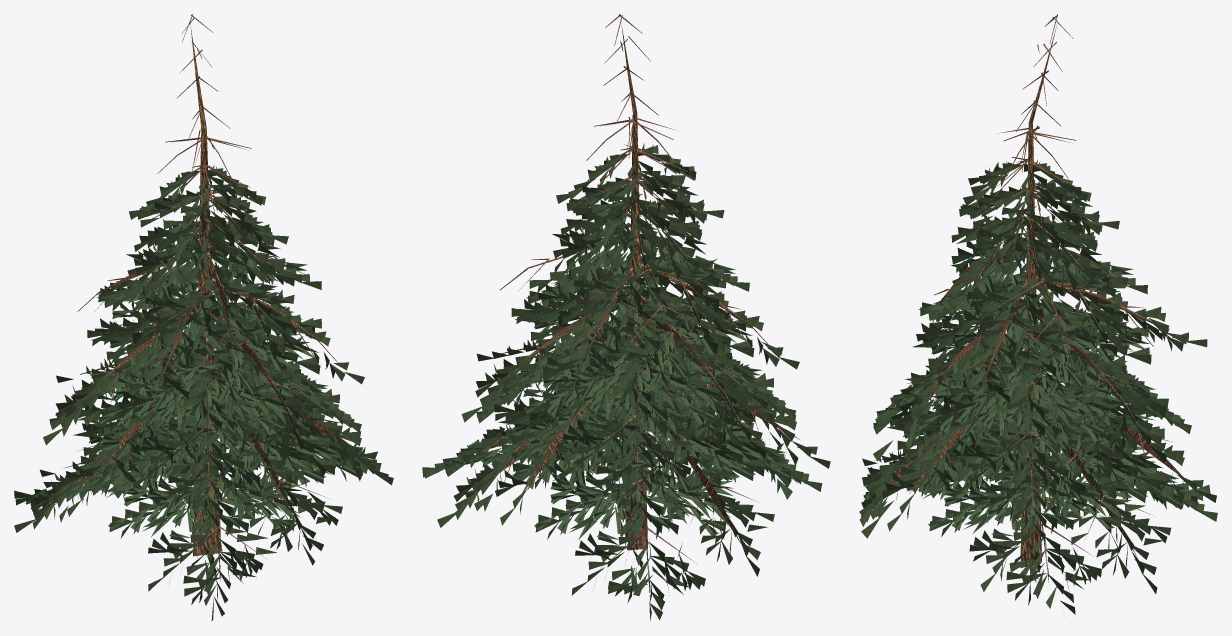
The model's file is pine_4.obj.
3 renders of one model, left to right at view 1: azimuth 30°, elevation 25°; view 2: azimuth 150°, elevation 25°; view 3: azimuth 270°, elevation 25°, orthographic. The views are drawn at different scales.
Parts seen in each view (by area): view 1: pine_0.004_nadeln.001, pine_0.004_ast1a.001, pine_0.004_QT_branch.001; view 2: pine_0.004_nadeln.001, pine_0.004_ast1a.001, pine_0.004_QT_branch.001; view 3: pine_0.004_nadeln.001, pine_0.004_ast1a.001, pine_0.004_QT_branch.001.
Boxes of the visible parts, bbox=[...] form: pine_0.004_nadeln.001: bbox=[14, 165, 393, 621]; pine_0.004_ast1a.001: bbox=[44, 14, 364, 580]; pine_0.004_QT_branch.001: bbox=[190, 24, 221, 556]; pine_0.004_nadeln.001: bbox=[422, 143, 830, 620]; pine_0.004_ast1a.001: bbox=[467, 14, 799, 596]; pine_0.004_QT_branch.001: bbox=[621, 24, 647, 550]; pine_0.004_nadeln.001: bbox=[859, 160, 1217, 614]; pine_0.004_ast1a.001: bbox=[863, 14, 1187, 582]; pine_0.004_QT_branch.001: bbox=[1020, 24, 1057, 567].
Bounding box in the file's own units: 3.9 × 5.55 × 3.29.
Materials: 3 (3 with a texture image).
